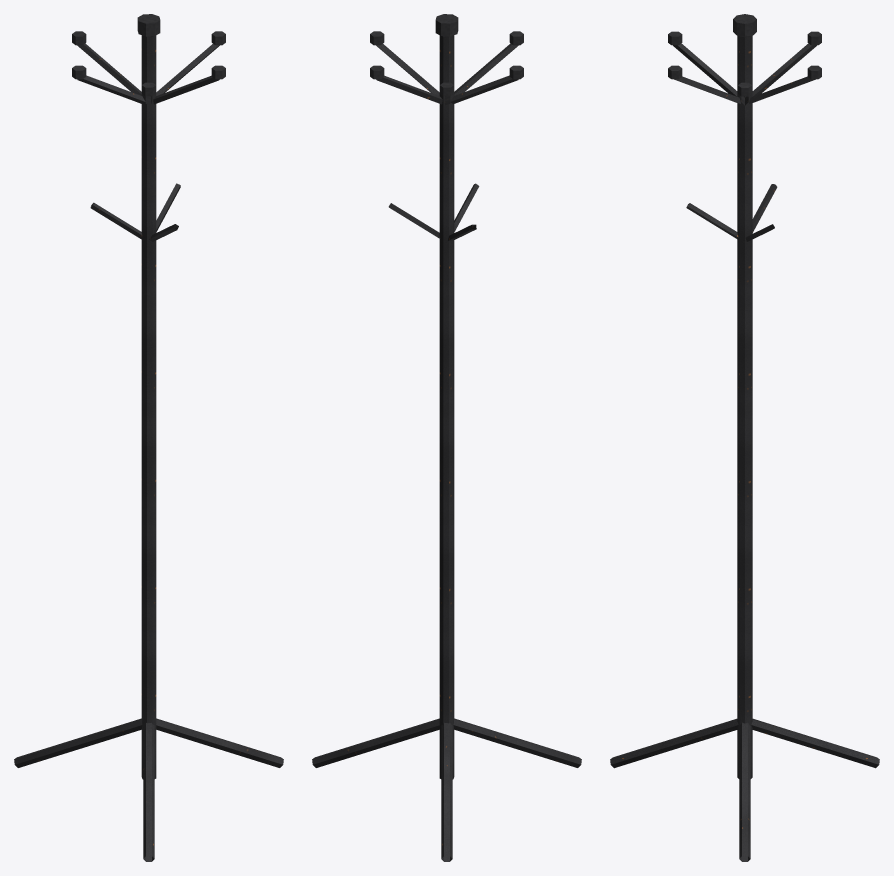
Rendered from Coat_Stand.fbx.
3 renders of one model, left to right at view 1: azimuth 30°, elevation 25°; view 2: azimuth 150°, elevation 25°; view 3: azimuth 270°, elevation 25°, orthographic.
Visible parts, largest first — view 1: вешалка напольная; view 2: вешалка напольная; view 3: вешалка напольная.
Part boxes in pixels (x1,y1,x2,y2): вешалка напольная: [14, 14, 283, 861]; вешалка напольная: [312, 14, 581, 861]; вешалка напольная: [610, 14, 879, 861].
Bounding box in the file's own units: 0.5079 × 1.81 × 0.5687.
1 material, 1 textured.
